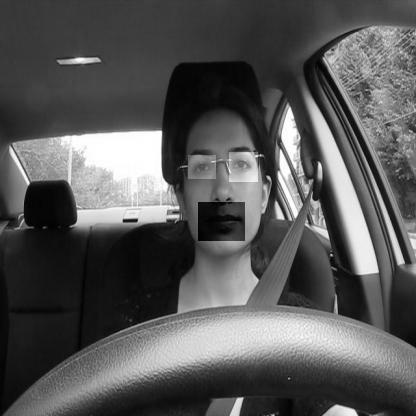seatbelt: (161, 73, 296, 416)
